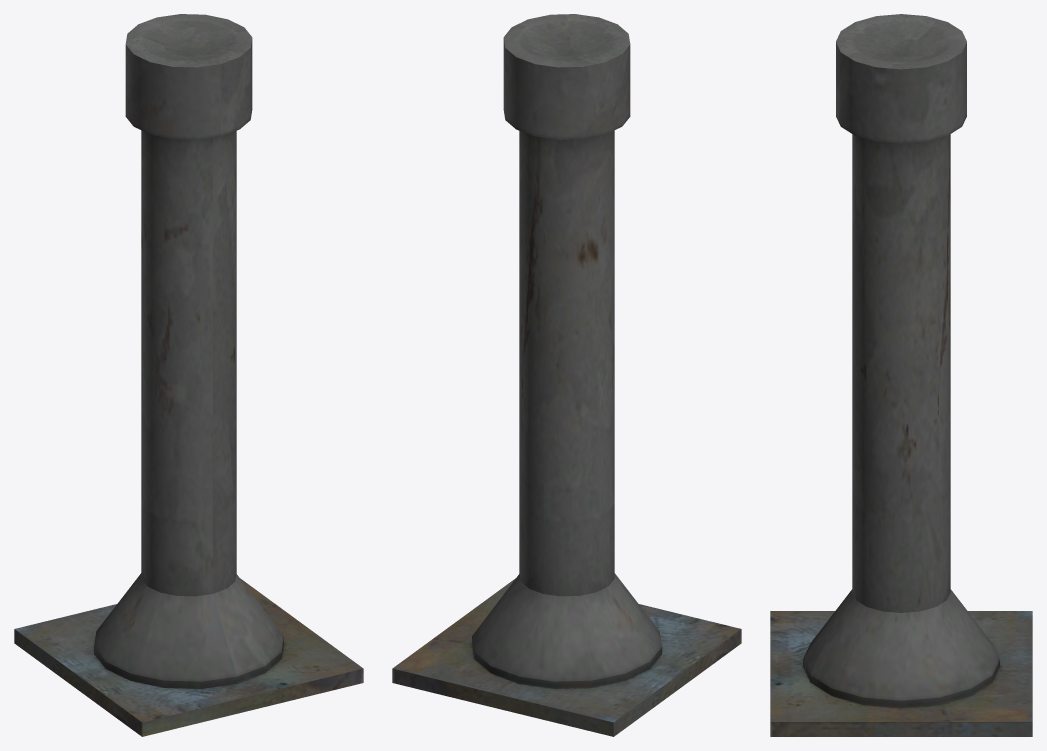
The model's file is roof_vent001.glb.
3 renders of one model, left to right at view 1: azimuth 30°, elevation 25°; view 2: azimuth 150°, elevation 25°; view 3: azimuth 270°, elevation 25°, orthographic. The views are drawn at different scales.
Visible parts, largest first — view 1: roof_vent001; view 2: roof_vent001; view 3: roof_vent001.
Part boxes in pixels (<box>): roof_vent001: <box>14,14,363,736</box>; roof_vent001: <box>392,14,741,736</box>; roof_vent001: <box>770,14,1032,736</box>.
Size of the model in its own units: 0.3048 by 0.8192 by 0.3048.
1 material, 1 textured.
